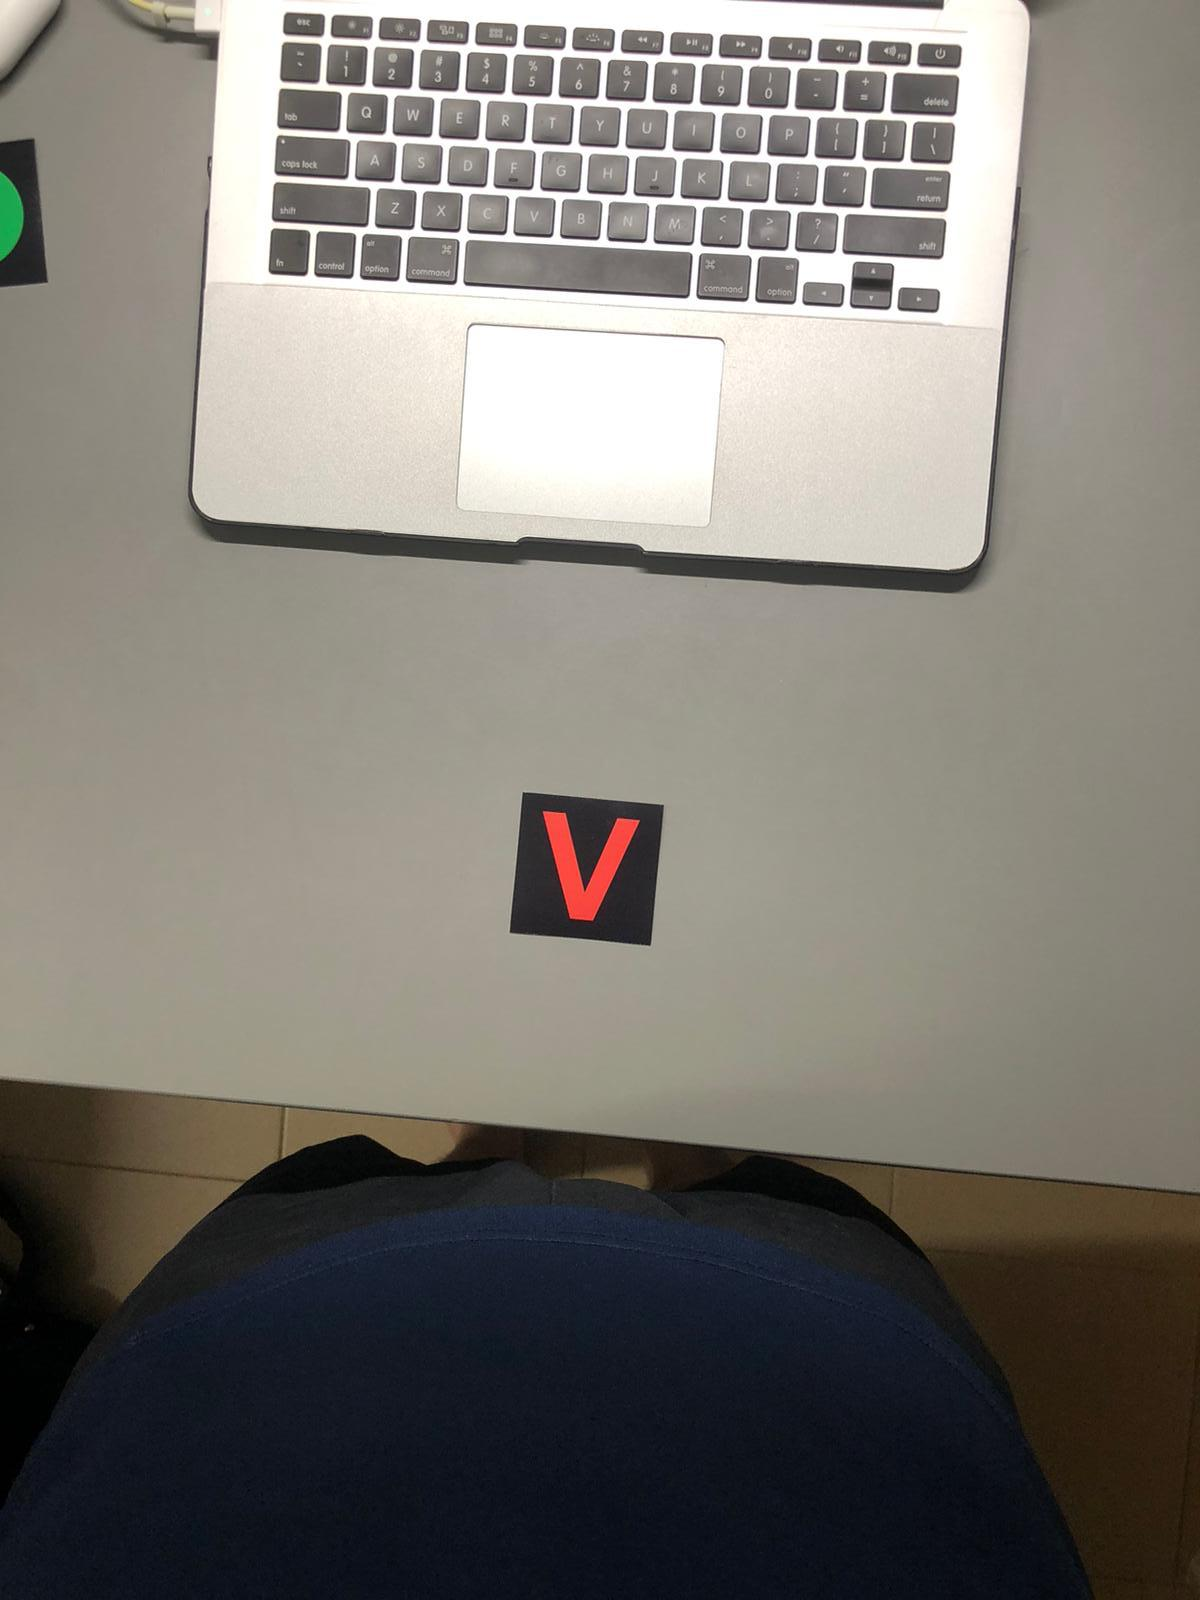V: (518, 791, 666, 936)
